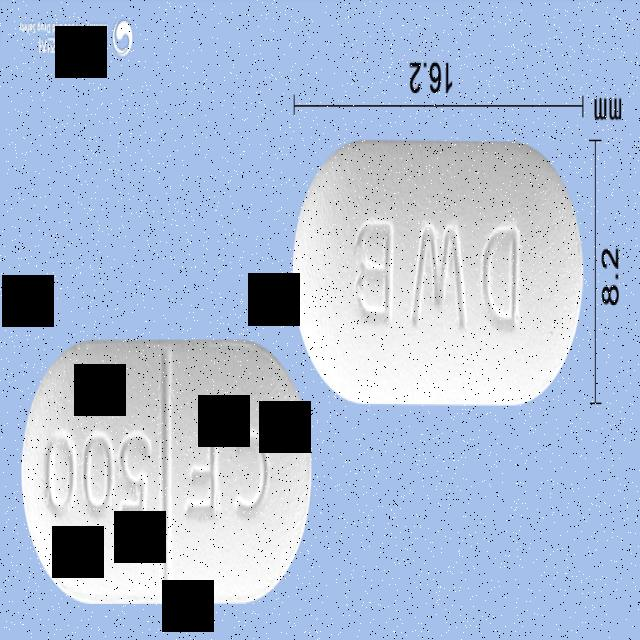Bearcin: (290, 134, 586, 412), (18, 334, 314, 610)
